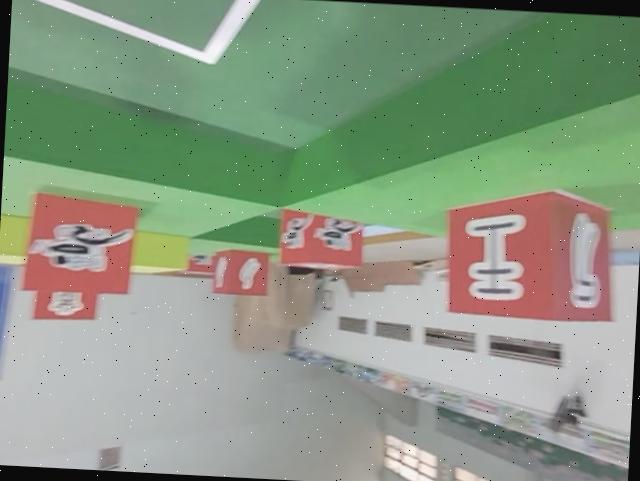R1: (22, 188, 141, 298), (278, 208, 366, 272)
R2 Fake: (441, 185, 622, 324)
R2 Real: (210, 246, 273, 302)
